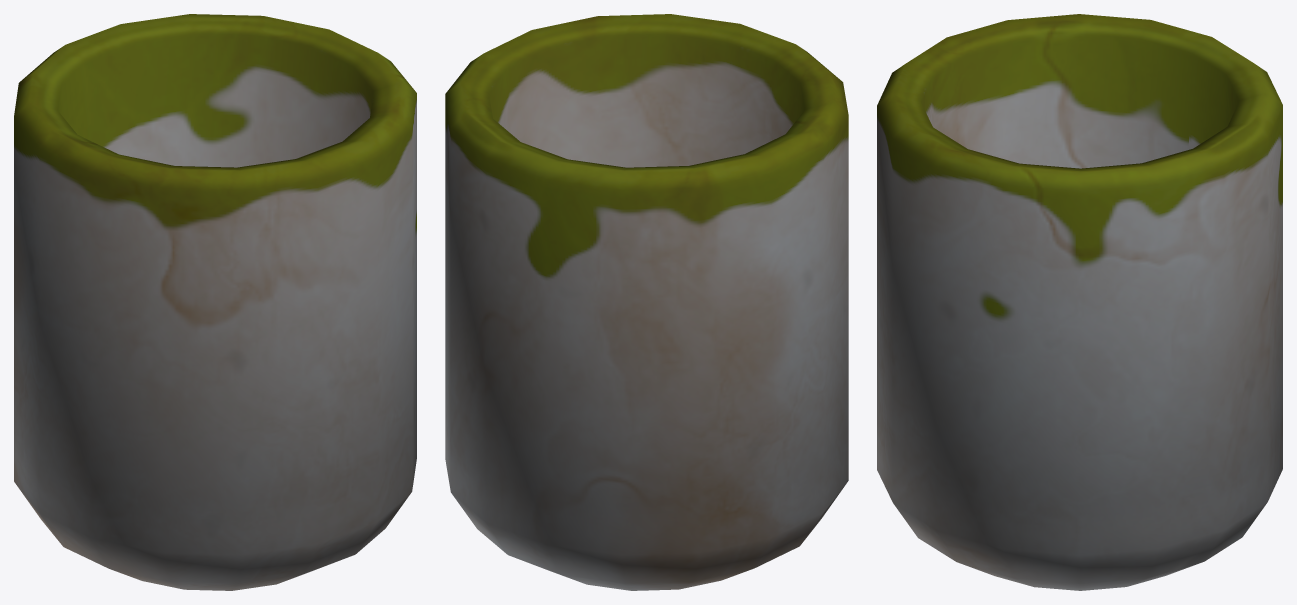
File: Cup_Metal.fbx
3 renders of one model, left to right at view 1: azimuth 30°, elevation 25°; view 2: azimuth 150°, elevation 25°; view 3: azimuth 270°, elevation 25°, orthographic.
Visible parts, largest first — view 1: U_Cup_Metal; view 2: U_Cup_Metal; view 3: U_Cup_Metal.
Part boxes in pixels (box(x1,y1,x2,y2)): U_Cup_Metal: box(14, 14, 416, 590); U_Cup_Metal: box(445, 14, 848, 590); U_Cup_Metal: box(877, 14, 1282, 590).
Bounding box in the file's own units: 24.94 × 30.28 × 24.94.
1 material, 1 textured.
